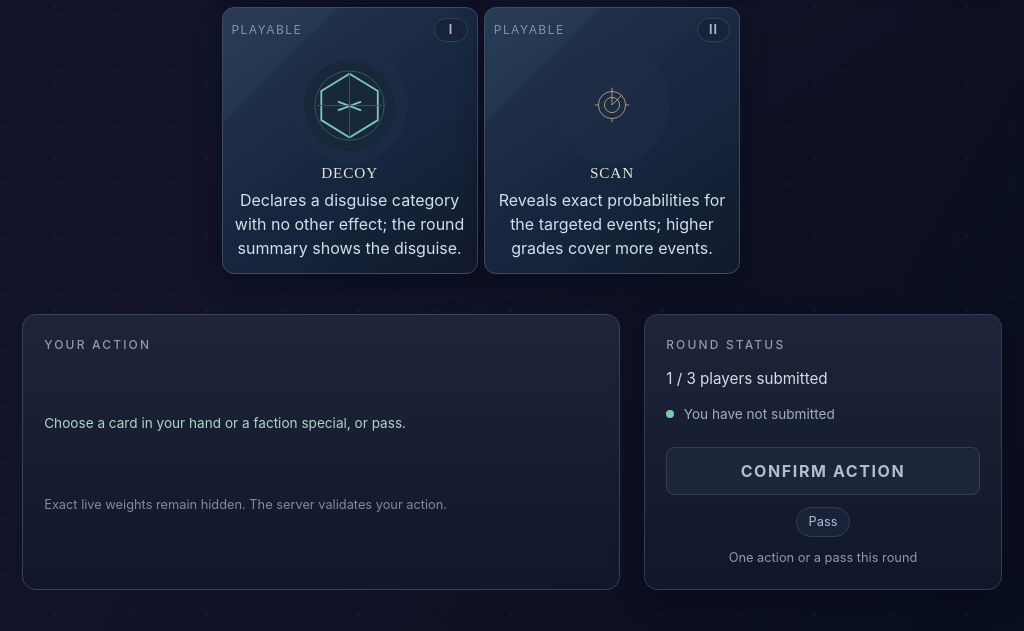
Test case: playing an action on the board › shows a pass rejected as a duplicate alongside the recorded submission
The width and height of the screenshot is (1024, 631).
(page scrolled)
Click the button "Pass": (823, 522) x1=796 y1=506 x2=850 y2=537
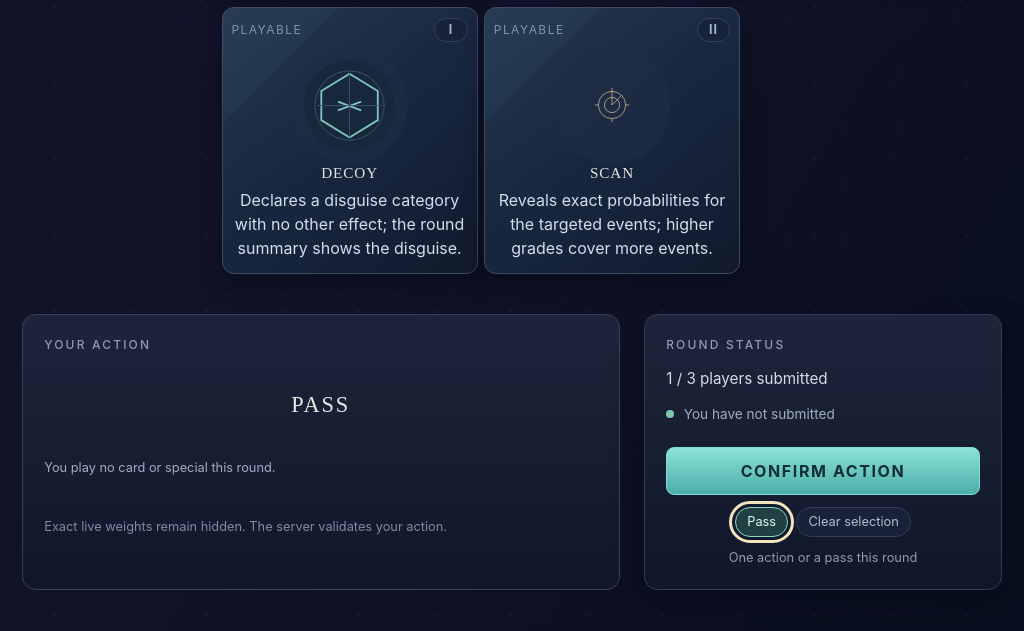
Click the button "Confirm action": (823, 471) x1=666 y1=447 x2=980 y2=495
(page scrolled)
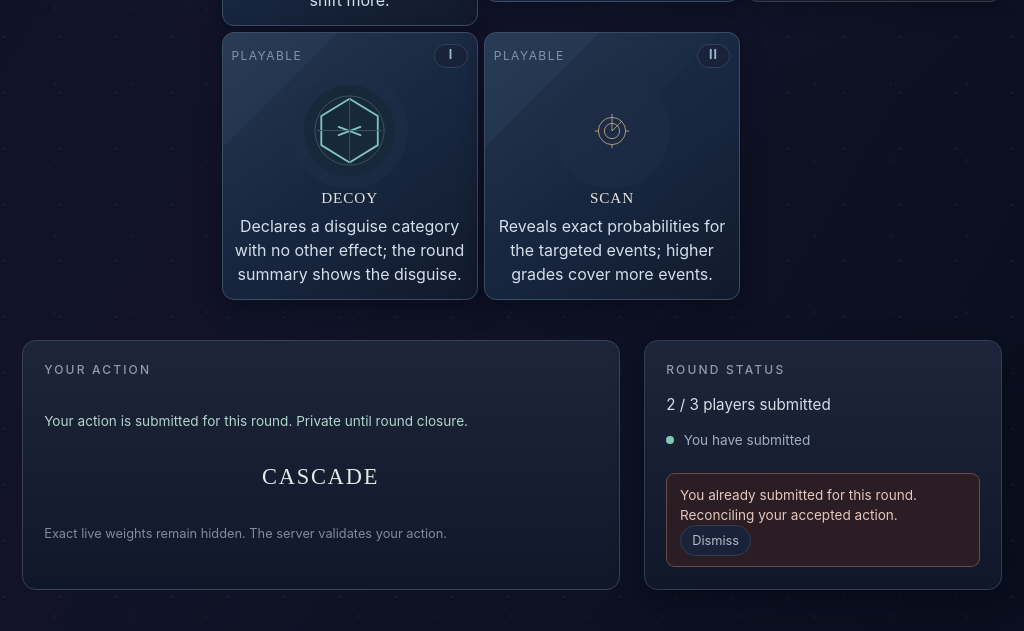
Expected: the message shows "You already submitted for this round.", x1=680 y1=486 x2=917 y2=523
Expected: the text "Cascade" is shown, x1=262 y1=464 x2=379 y2=489
Expected: the text "You have submitted" is shown, x1=666 y1=432 x2=810 y2=448
